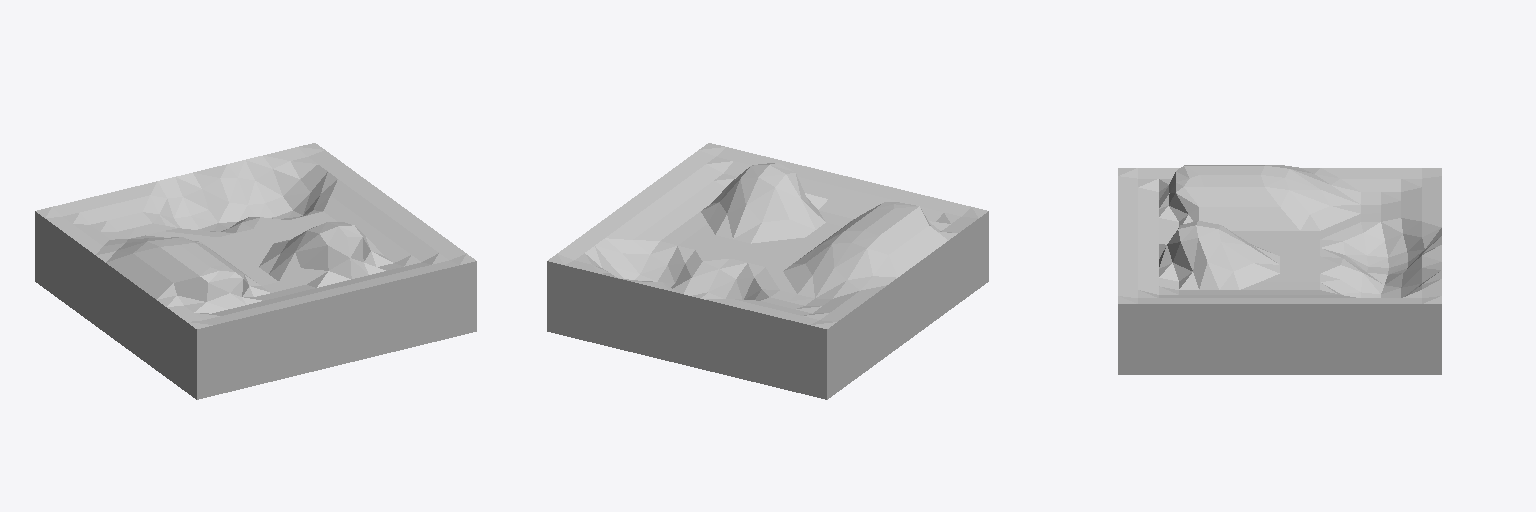
Rendered from zemin.obj.
The picture shows the model from 3 angles: view 1: azimuth 30°, elevation 25°; view 2: azimuth 150°, elevation 25°; view 3: azimuth 270°, elevation 25°; orthographic projection.
Visible parts, largest first — view 1: Cube; view 2: Cube; view 3: Cube.
Boxes of the visible parts, x1,y1,x2,y2 form: Cube: [35, 143, 476, 399]; Cube: [547, 143, 988, 399]; Cube: [1118, 165, 1441, 374].
Size of the model in its own units: 2 by 0.6901 by 2.